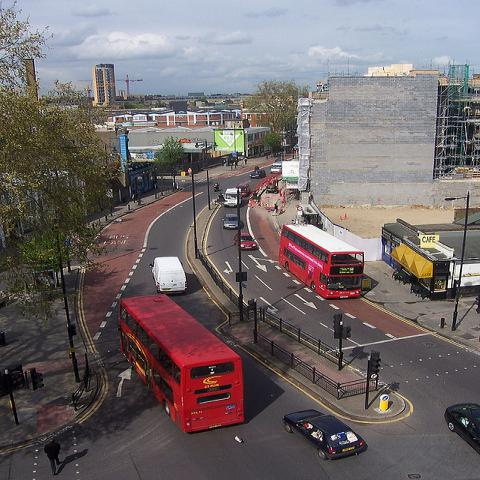bus: (118, 294, 246, 434), (276, 221, 371, 302)
car: (283, 409, 368, 460), (443, 401, 479, 456), (232, 231, 256, 249), (220, 214, 239, 228), (236, 183, 251, 197), (248, 169, 267, 178), (243, 104, 247, 105)
truck: (148, 256, 188, 295), (223, 188, 241, 206), (270, 160, 282, 174)
